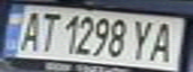1: (57, 11, 81, 54)
2: (75, 12, 96, 56)
8: (106, 16, 133, 60)
9: (90, 14, 112, 57)
A: (145, 18, 187, 63), (12, 8, 45, 53)
T: (33, 9, 63, 53)
Y: (127, 17, 160, 62)
